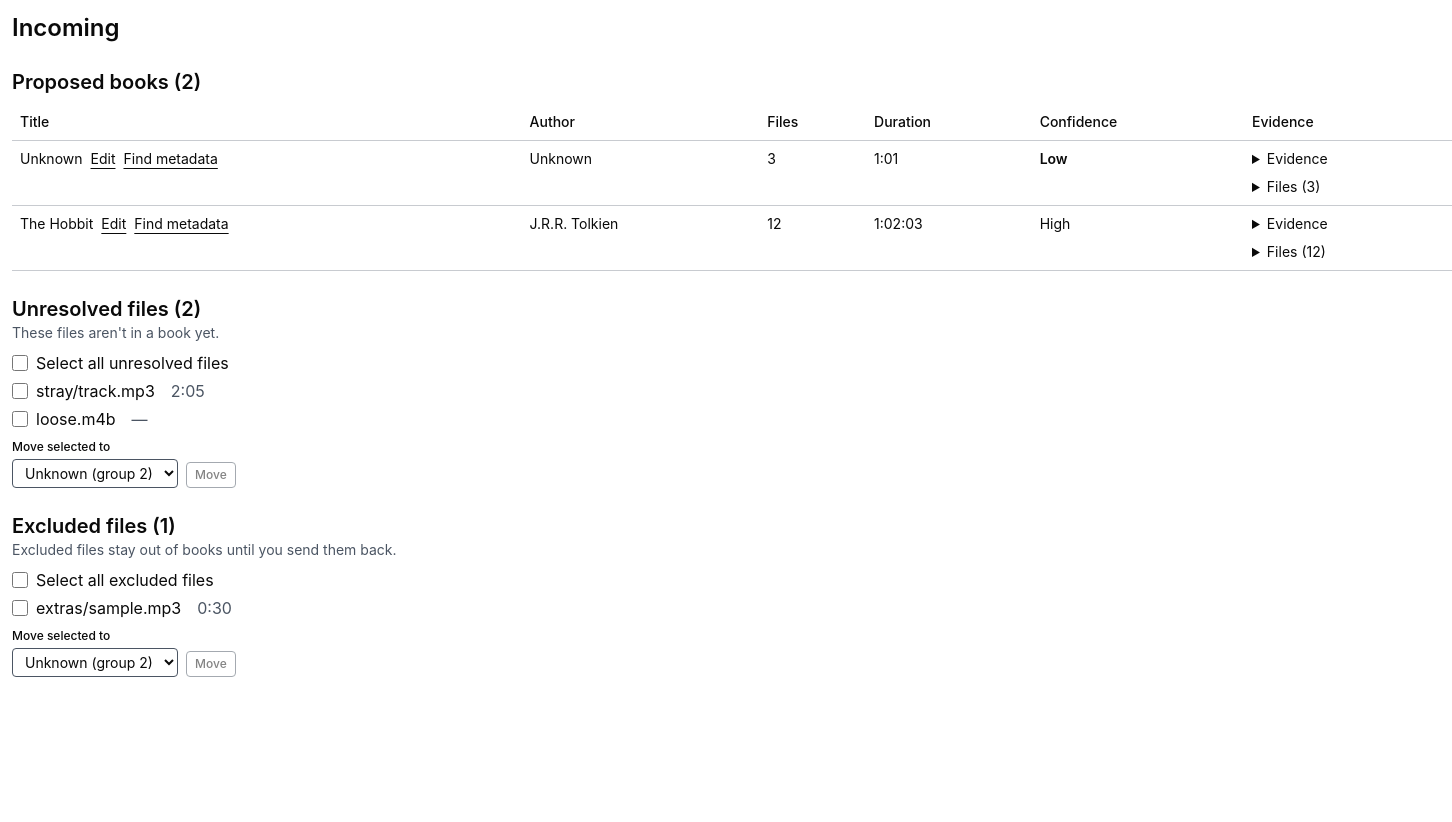
Test: IncomingPage › editing a title and author › shows an alert and reloads the list when the group is not found
The width and height of the screenshot is (1452, 822).
Click the button with aria-label "Edit The Hobbit" at x=114, y=224, box [101,214,126,234]
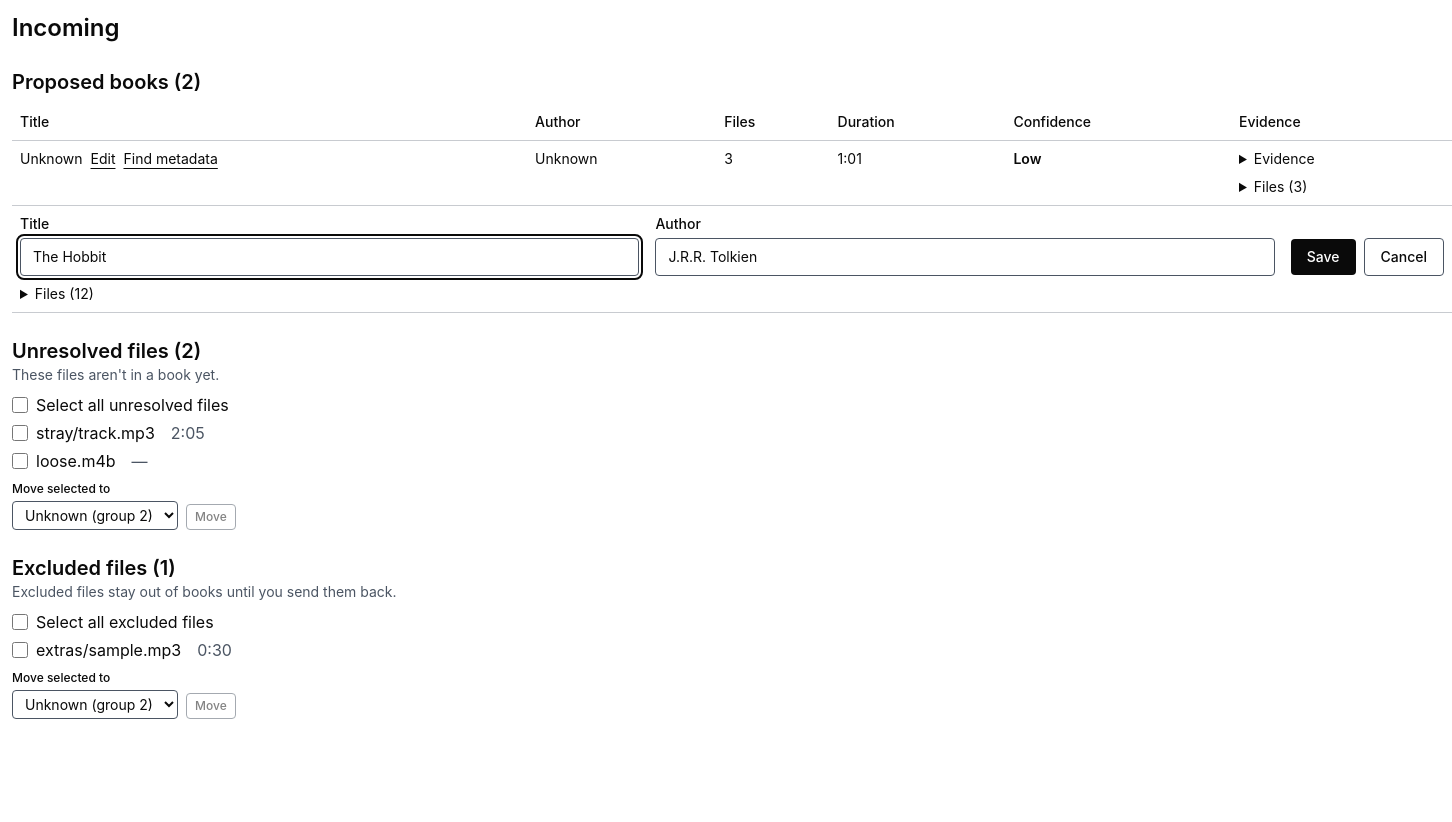
Click the button "Save" at x=1323, y=257, box [1291,239,1356,275]
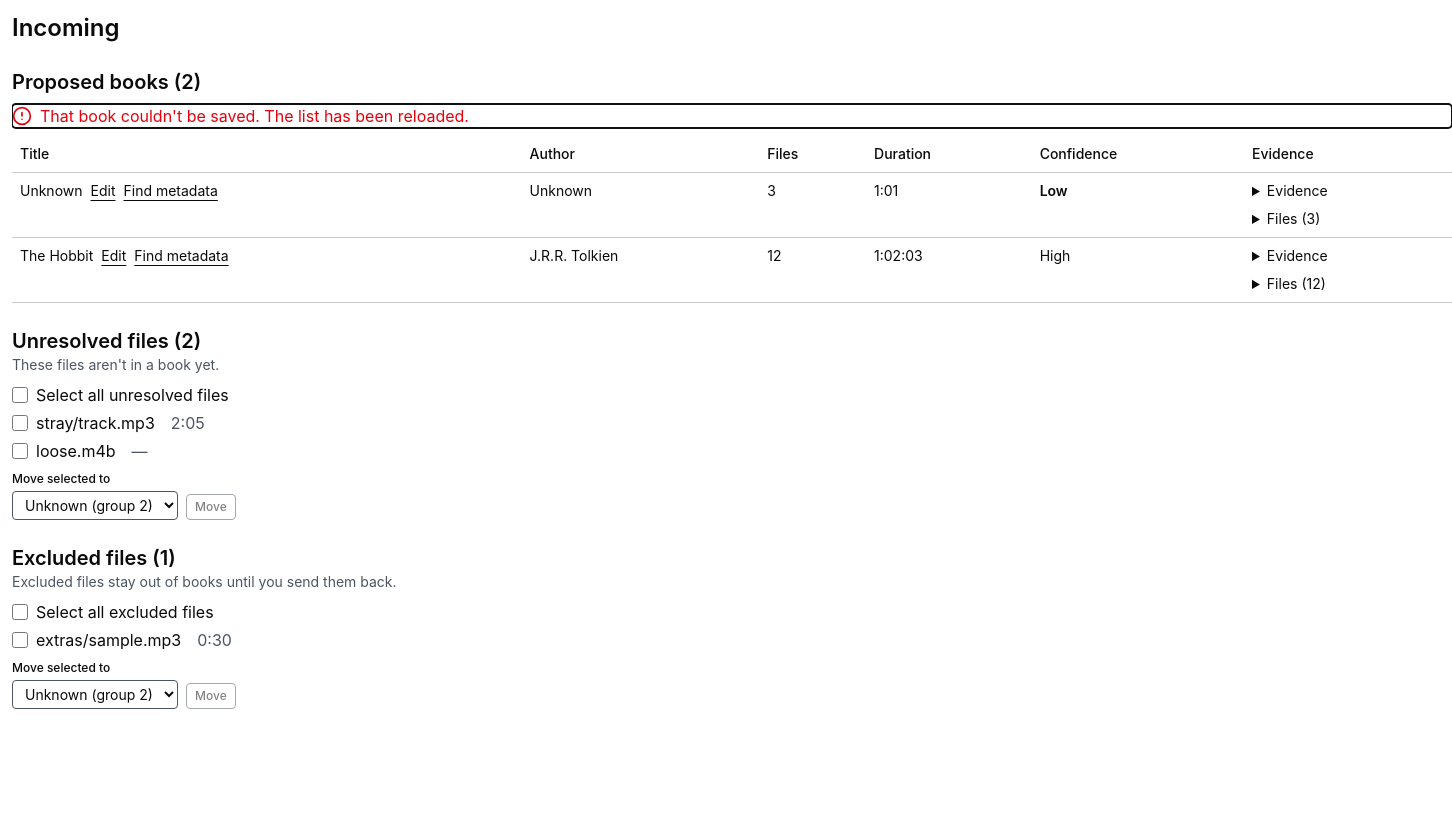
Result: the message reads "That book couldn't be saved. The list has been reloaded." at [40,106,469,126]
